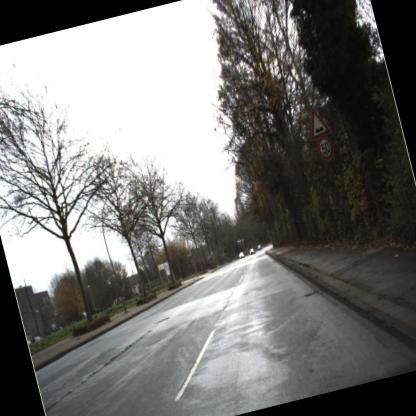danger: (306, 104, 330, 140)
prohibitory: (314, 134, 336, 164)
